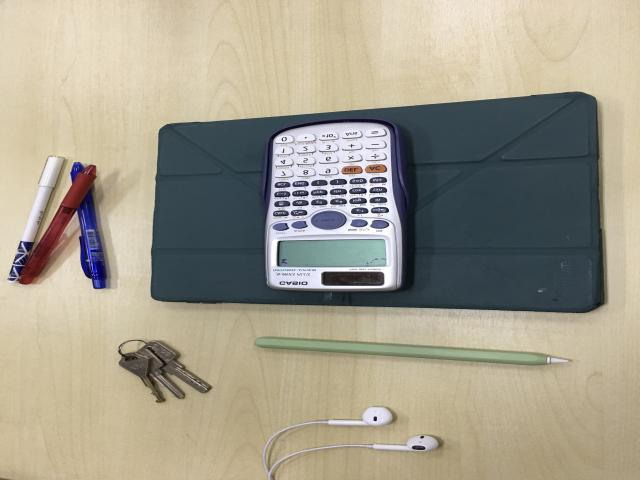Keys: (117, 340, 211, 403)
Pen: (4, 157, 119, 293)
wire: (262, 406, 449, 480)
